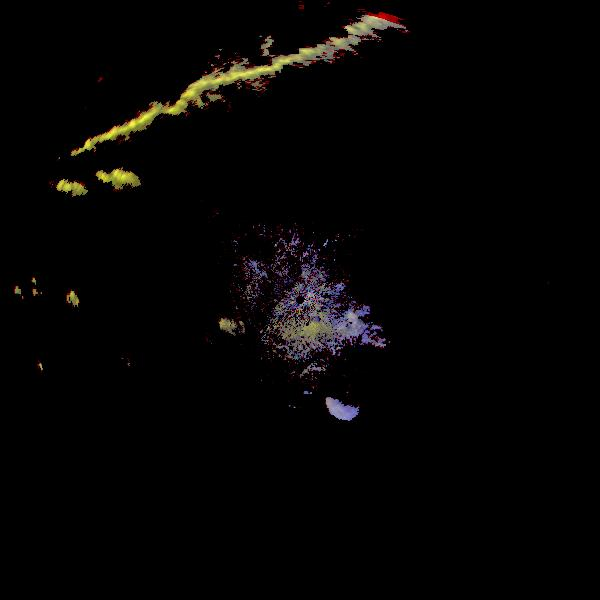roost: (201, 259, 429, 487)
